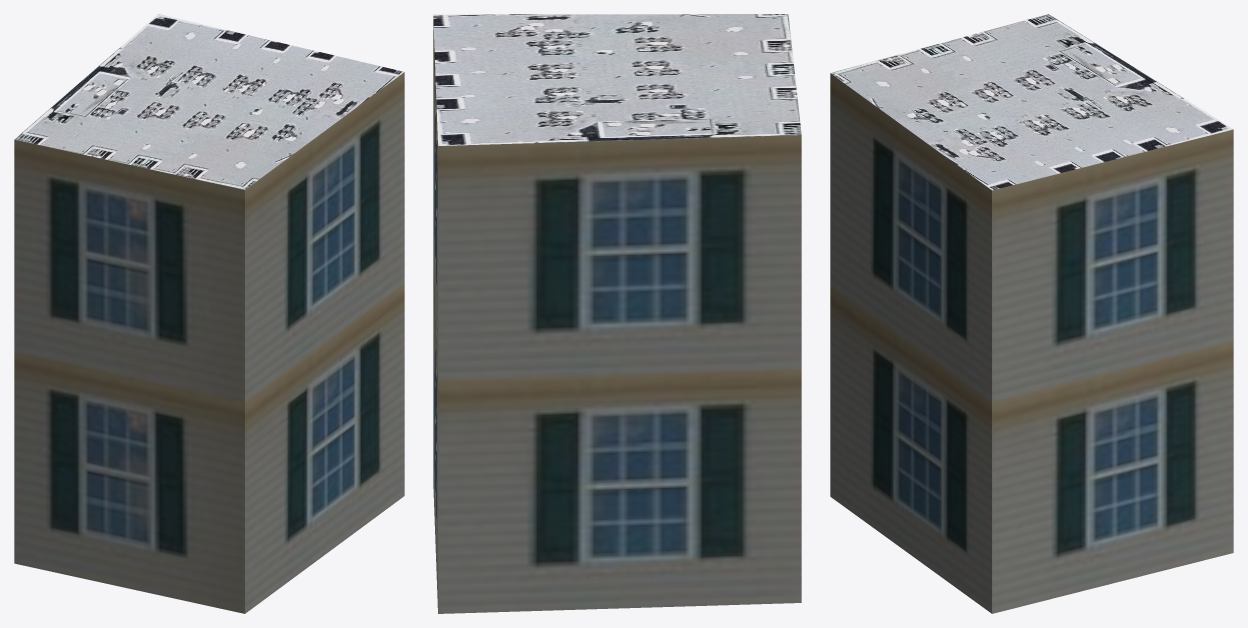
Rendered from ResTex__49.fbx.
3 views of the same model, side by side, from view 1: azimuth 30°, elevation 25°; view 2: azimuth 150°, elevation 25°; view 3: azimuth 270°, elevation 25° (orthographic). The views are drawn at different scales.
Visible parts, largest first — view 1: CityEngineMaterial_7_m, CityEngineMaterial_8_m; view 2: CityEngineMaterial_7_m, CityEngineMaterial_8_m; view 3: CityEngineMaterial_7_m, CityEngineMaterial_8_m.
Boxes of the visible parts, <box> form: CityEngineMaterial_7_m: <box>14,72,404,613</box>; CityEngineMaterial_8_m: <box>14,14,403,189</box>; CityEngineMaterial_7_m: <box>433,21,801,613</box>; CityEngineMaterial_8_m: <box>433,14,801,145</box>; CityEngineMaterial_7_m: <box>830,73,1233,613</box>; CityEngineMaterial_8_m: <box>830,14,1233,190</box>.
Size of the model in its own units: 5.36 by 6 by 5.18.
Materials: 2 (2 with a texture image).
